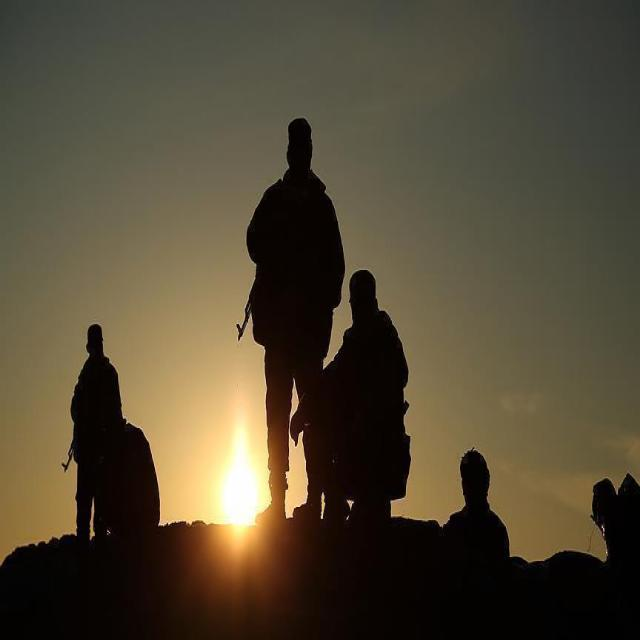Militant: (230, 102, 328, 553), (314, 228, 425, 561), (68, 285, 174, 575), (433, 416, 521, 637), (573, 417, 640, 624)
